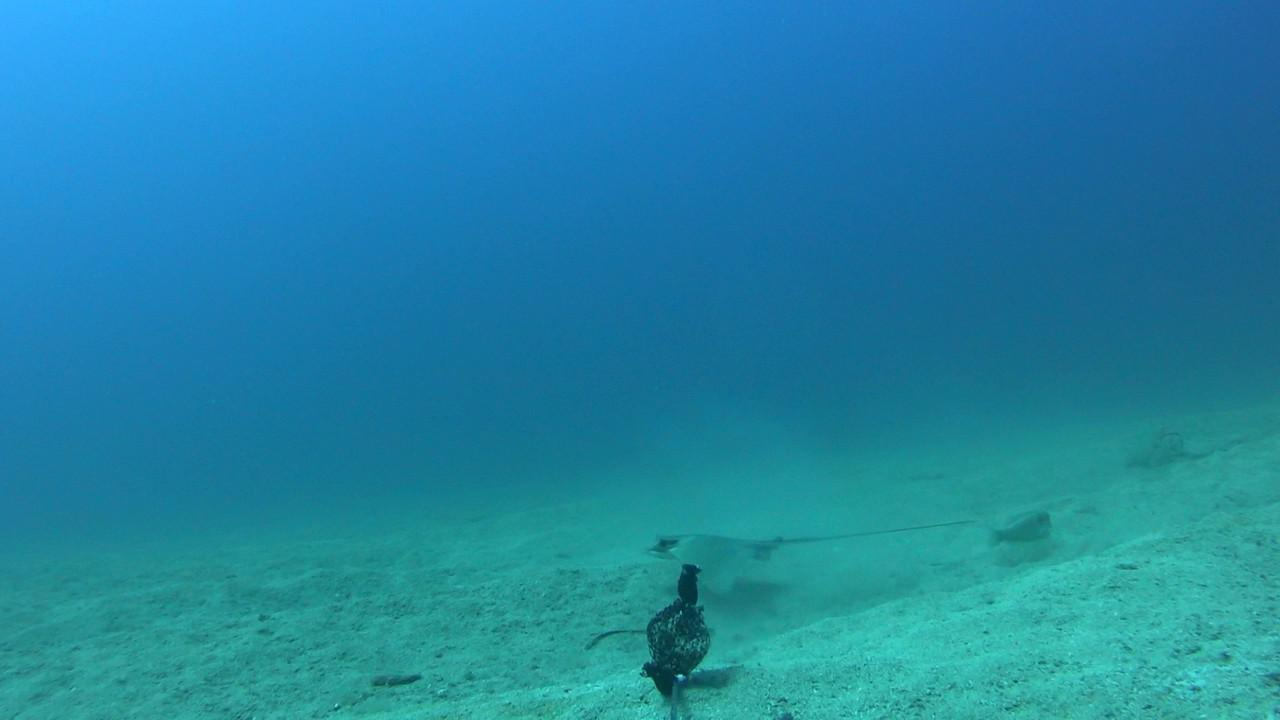myliobatis: (589, 496, 1005, 583)
raor: (980, 510, 1054, 551)
